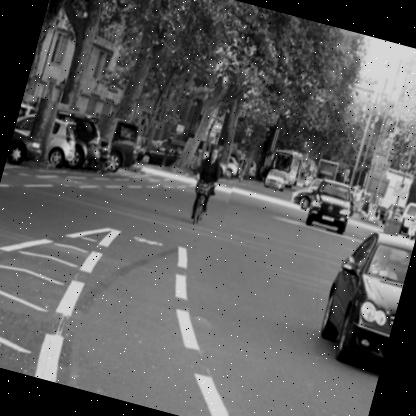Car: (4, 94, 242, 228), (312, 222, 414, 372), (302, 176, 356, 234), (263, 168, 287, 192)
